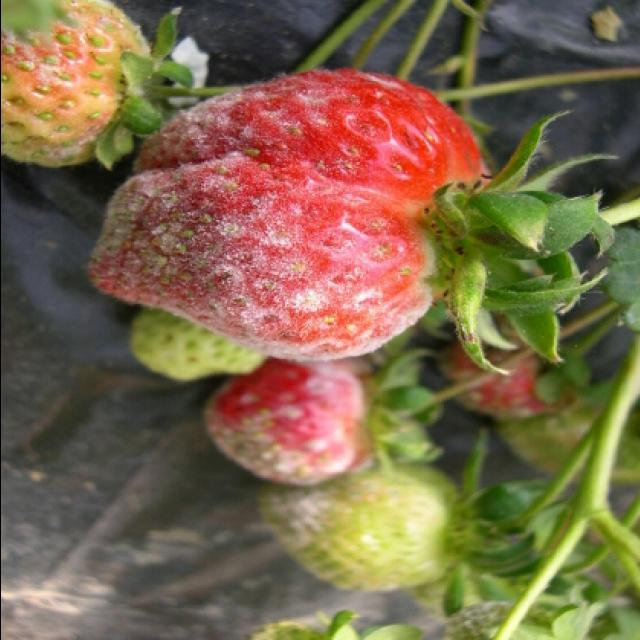Powdery Mildew Fruit: (83, 67, 500, 372), (258, 458, 463, 590), (2, 2, 160, 168), (202, 357, 374, 488), (437, 301, 592, 421), (443, 599, 581, 640)
